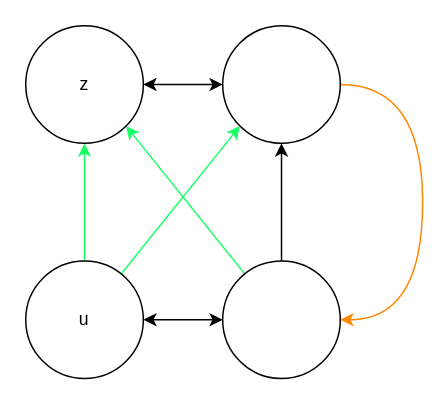
This 448x404 diagram has some shape labels left out. The box of each missing label's shape, as (x1, y1, x2, y2) in pixels:
HR (x): (221, 24, 340, 143)
LR (y): (221, 259, 340, 379)
